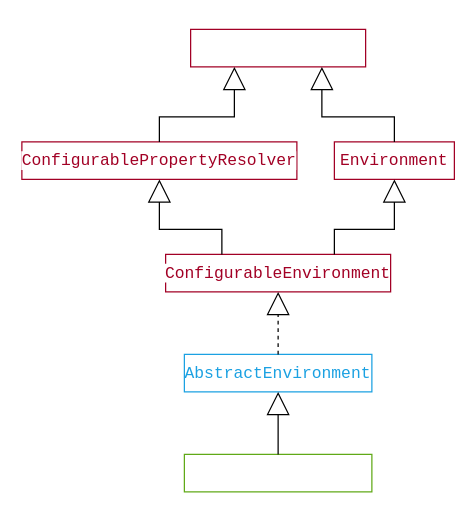
Image size: 476x520. Some labels were removed from this diagram. Here are the shapes that lost their labels. From the top down, the centre of each, then its label:
[277,47]: PropertyResolver
[277,472]: StandardEnvironment
